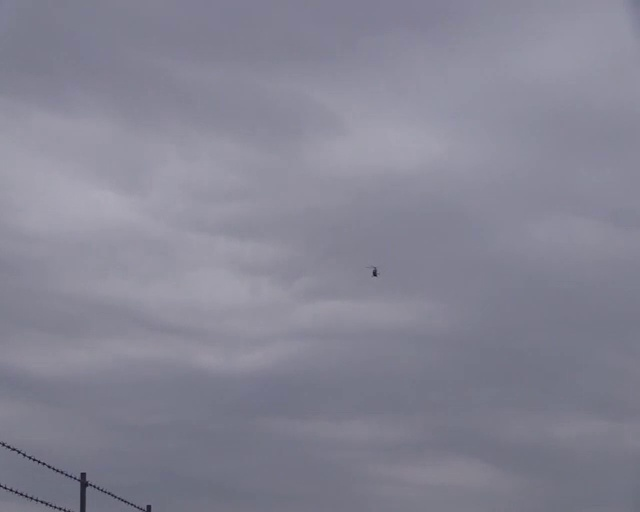HELICOPTER: (365, 265, 379, 277)
